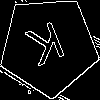K: (24, 21, 71, 76)
